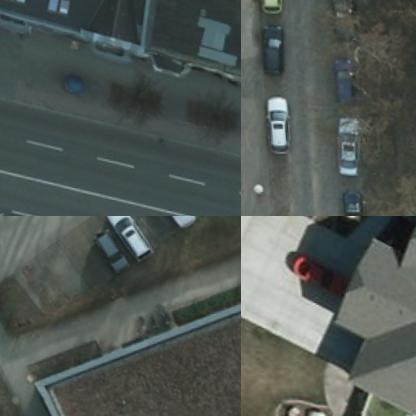car: (288, 244, 347, 298), (89, 221, 130, 275), (328, 112, 363, 174), (98, 216, 148, 257), (258, 92, 293, 150), (251, 18, 285, 76), (326, 48, 360, 103), (326, 0, 356, 37), (249, 0, 283, 15)
